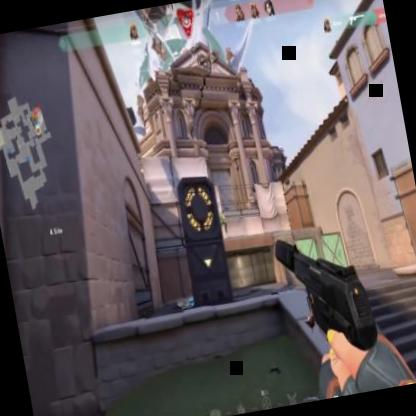enemy: (216, 210, 228, 234)
enemy_head: (222, 209, 224, 214)
